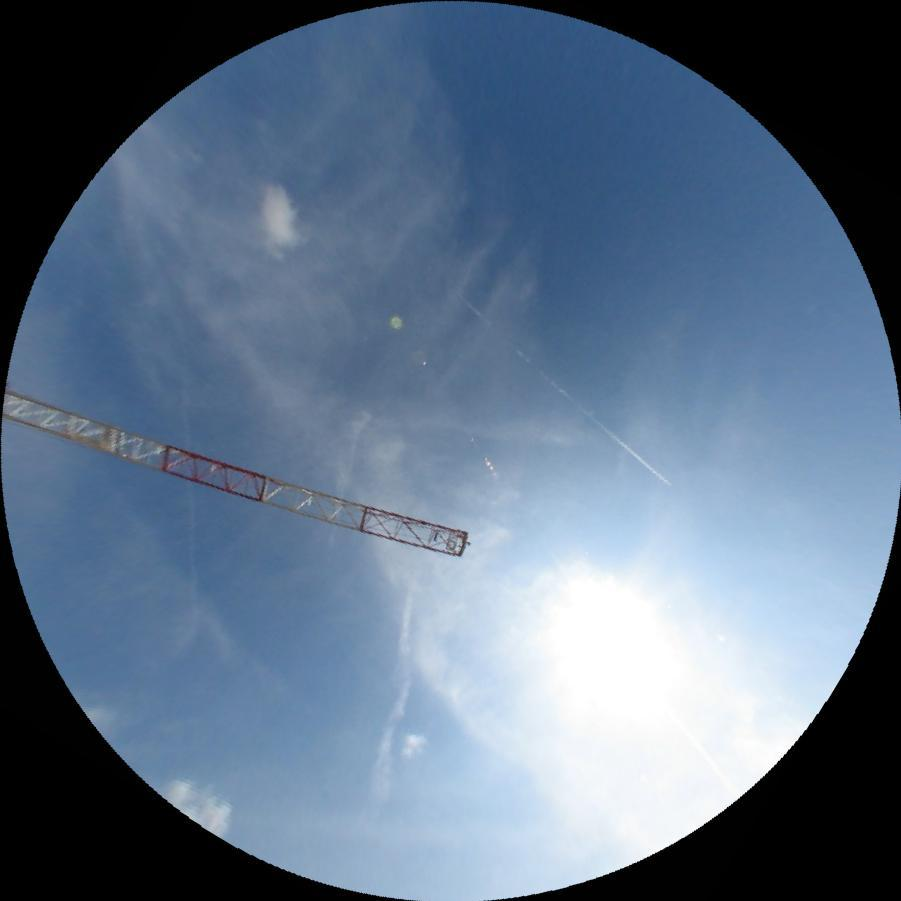contrail old: (181, 401, 199, 625)
contrail young: (461, 299, 672, 489)
sun: (514, 553, 699, 732)
unknow: (363, 565, 426, 806), (396, 415, 592, 444)
